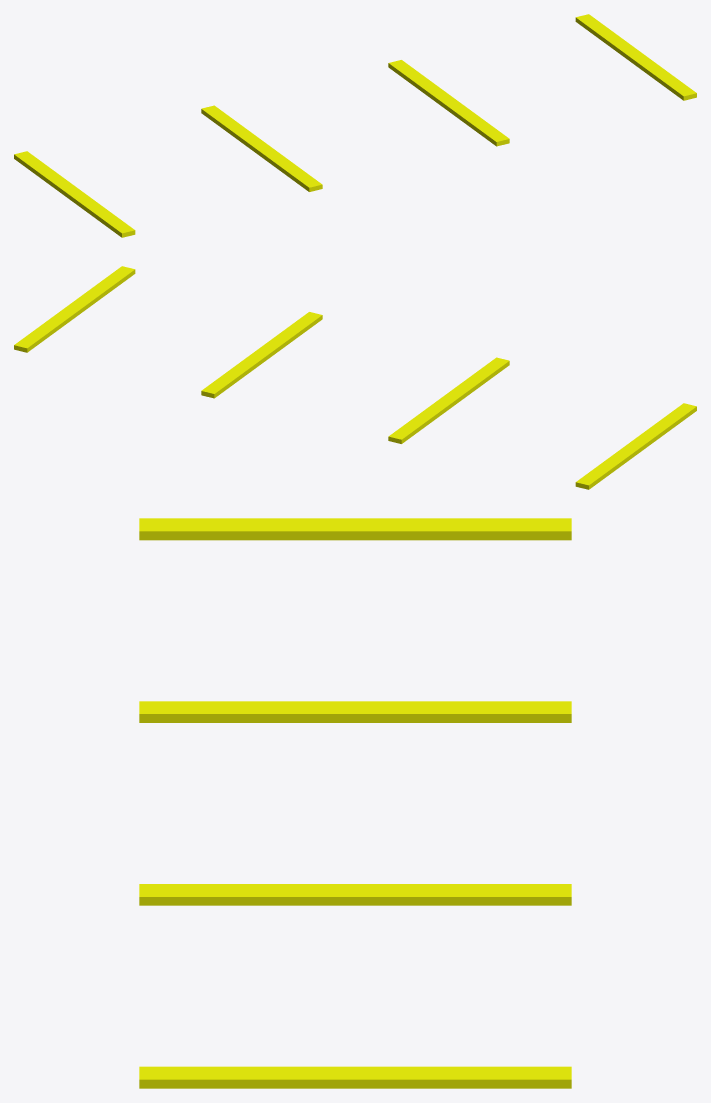
Rendered from roadpaint.obj.
3 views of the same model, one above another, from view 1: azimuth 30°, elevation 25°; view 2: azimuth 150°, elevation 25°; view 3: azimuth 270°, elevation 25° (orthographic). The views are drawn at different scales.
Parts seen in each view (by area): view 1: Cube; view 2: Cube; view 3: Cube.
Part boxes in pixels (box(x1,y1,x2,y2)): Cube: box(14, 14, 696, 237); Cube: box(14, 266, 696, 489); Cube: box(139, 518, 571, 1088).
Size of the model in its own units: 6.14 by 0.0452 by 2.
1 material, 1 textured.
